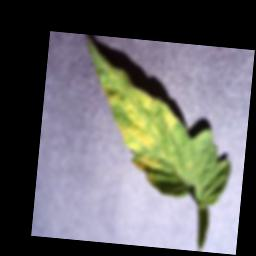Leaf_Mold: (73, 35, 194, 194)
